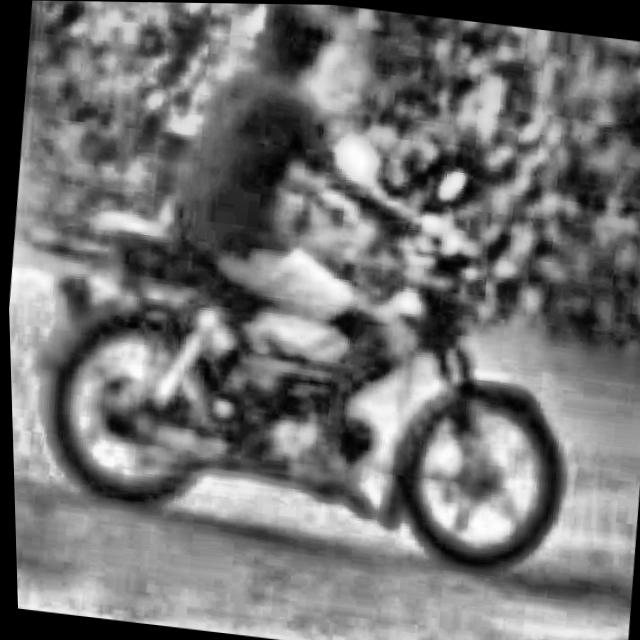motorcycle: (26, 96, 608, 591)
